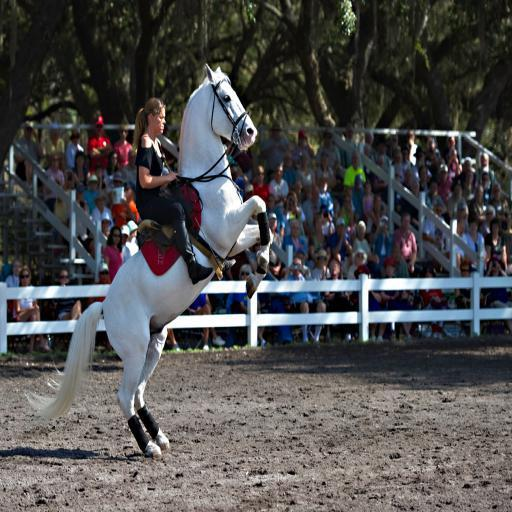horse: (24, 60, 276, 455)
